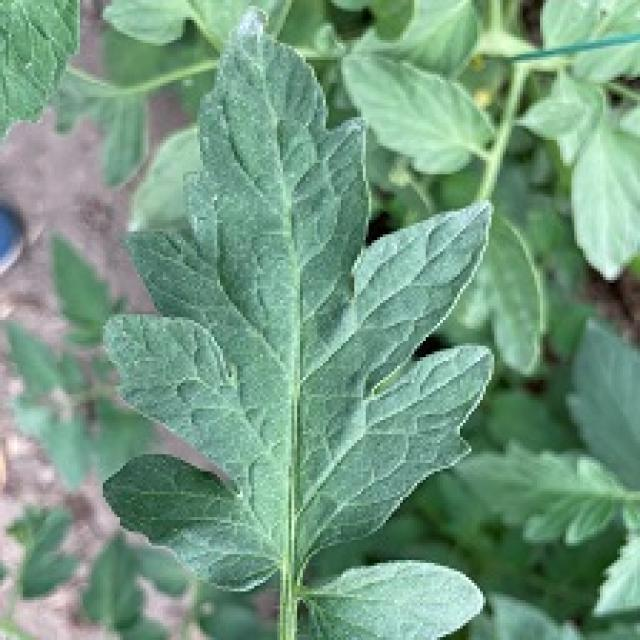Healthy: (103, 6, 497, 640)
